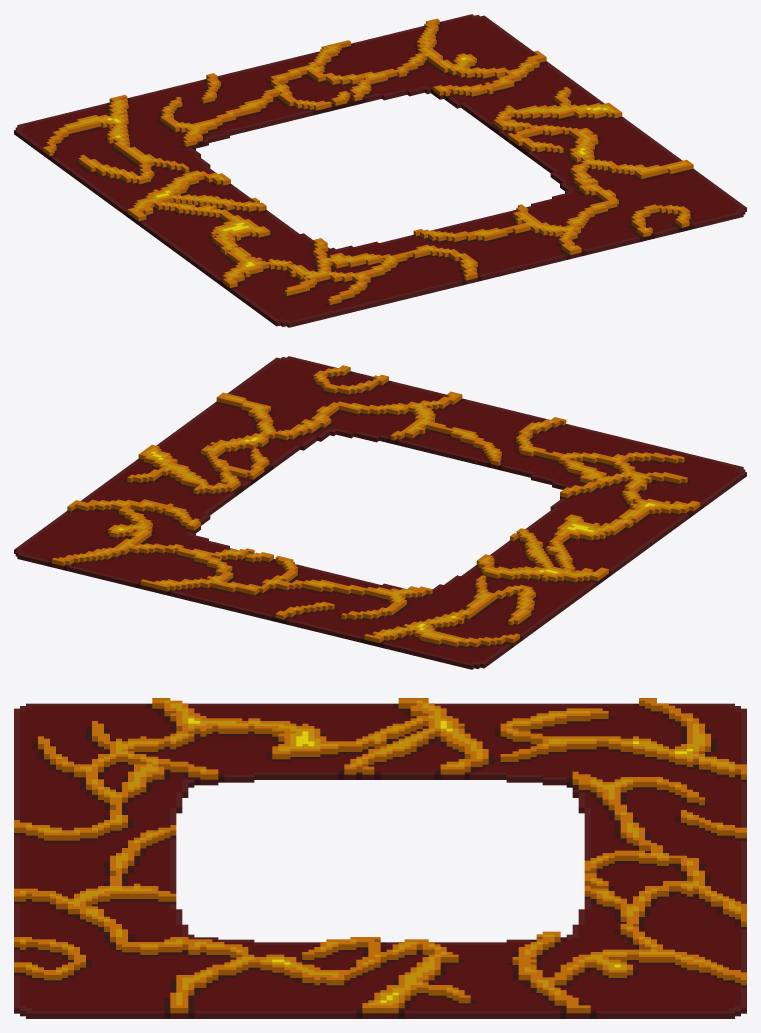
The model's file is MagmaLordLavaBlast.obj.
3 views of the same model, one above another, from view 1: azimuth 30°, elevation 25°; view 2: azimuth 150°, elevation 25°; view 3: azimuth 270°, elevation 25° (orthographic). The views are drawn at different scales.
Visible parts, largest first — view 1: MagmaLordLavaBlast; view 2: MagmaLordLavaBlast; view 3: MagmaLordLavaBlast.
Boxes of the visible parts, x1,y1,x2,y2 form: MagmaLordLavaBlast: (14, 14, 746, 327); MagmaLordLavaBlast: (14, 356, 746, 669); MagmaLordLavaBlast: (14, 698, 746, 1018).
Bounding box in the file's own units: 122 × 2 × 122.
1 material, 1 textured.
